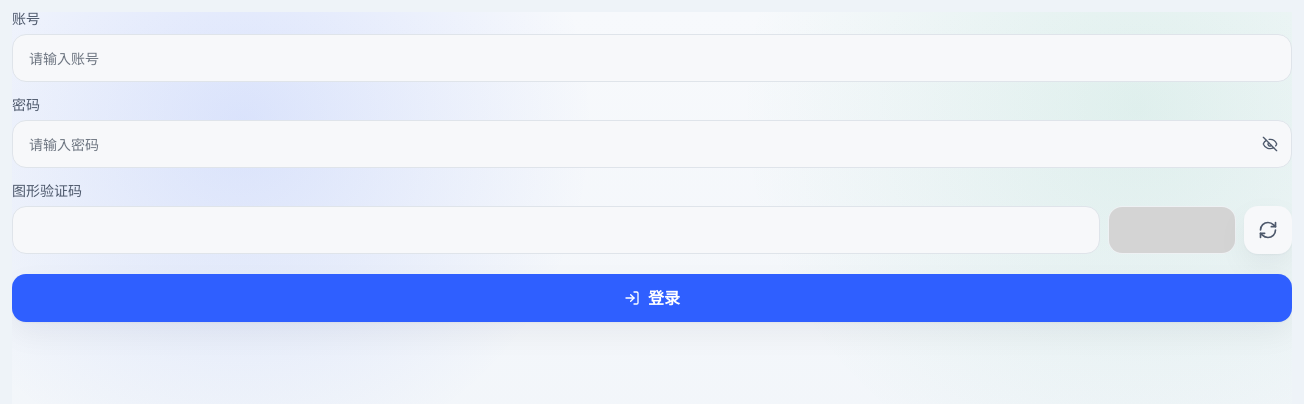
Test: UserAuthForm › shows validation messages when submitting empty form
Expected: the field with placeholder "请输入账号" is shown, [12, 34, 1292, 82]
Click the button "登录" at (652, 298), box [12, 274, 1292, 322]
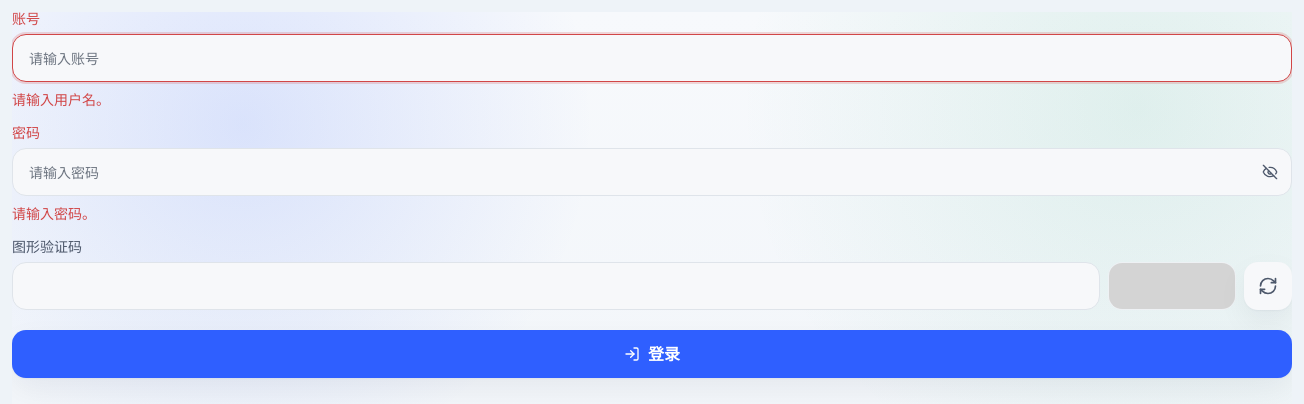
Expected: the text "请输入用户名。" is shown, [12, 91, 110, 108]
Expected: the text "请输入密码。" is shown, [12, 205, 96, 222]
